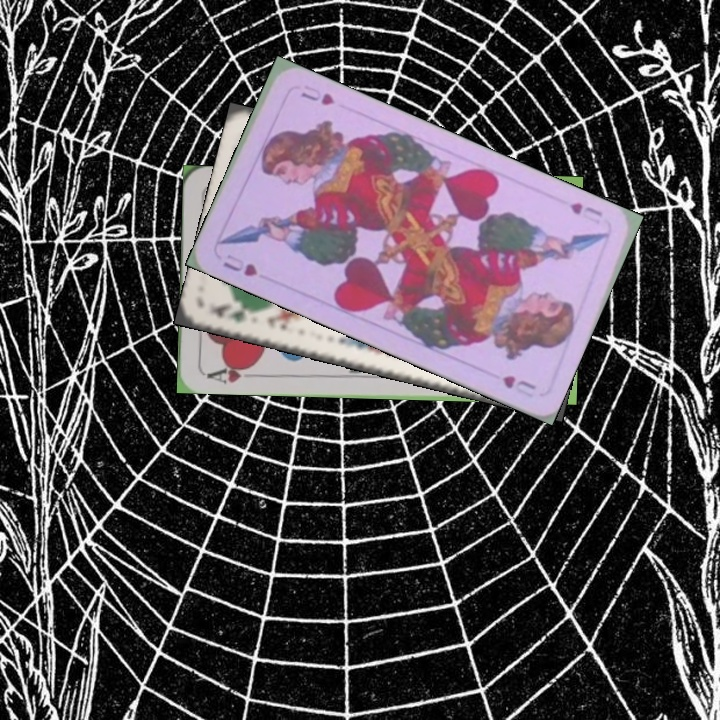GK: (207, 299, 263, 326)
HA: (203, 359, 261, 386)
HU: (219, 249, 261, 279), (565, 198, 605, 219)
